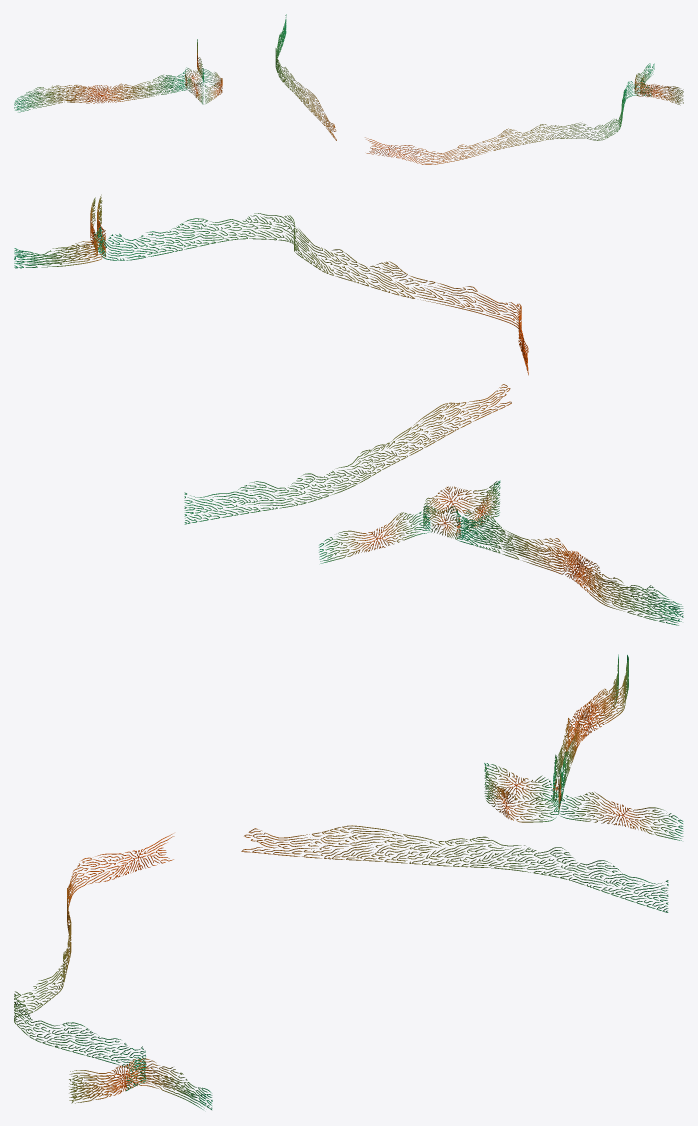
The model's file is netw1_Motorway.fbx.
3 views of the same model, one above another, from view 1: azimuth 30°, elevation 25°; view 2: azimuth 150°, elevation 25°; view 3: azimuth 270°, elevation 25° (orthographic). The views are drawn at different scales.
Visible parts, largest first — view 1: null5; view 2: null5; view 3: null5.
Boxes of the visible parts, x1,y1,x2,y2 form: null5: (14, 14, 683, 164); null5: (14, 194, 683, 625); null5: (14, 654, 683, 1109).
Size of the model in its own units: 241 by 9.24 by 155.
